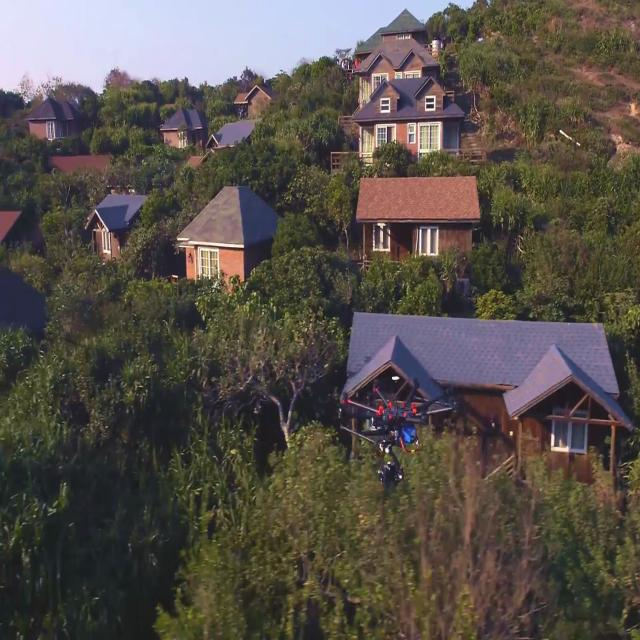drone: (330, 381, 460, 496)
